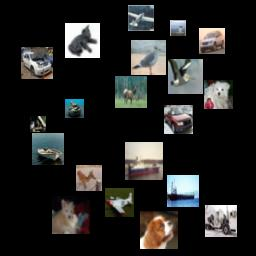airplane: (105, 188, 134, 217), (128, 5, 154, 31)
automobile: (21, 47, 53, 79), (164, 105, 193, 134), (199, 28, 225, 54)
bird: (131, 40, 166, 75), (168, 59, 203, 94)
cat: (65, 23, 100, 58), (170, 20, 186, 36)
deer: (115, 76, 147, 108), (76, 165, 102, 191)
dog: (140, 211, 178, 249), (52, 196, 90, 234), (204, 80, 233, 109)
frog: (65, 99, 84, 118)
ship: (125, 142, 163, 180), (167, 175, 199, 207), (32, 133, 64, 165)
truck: (205, 205, 237, 237), (30, 116, 46, 132)
